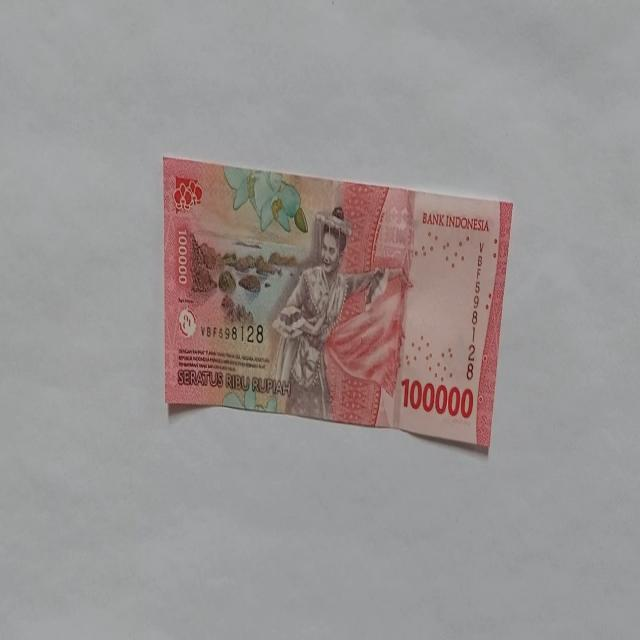seratus ribu rupiah: (162, 156, 514, 454), (270, 206, 390, 422)
